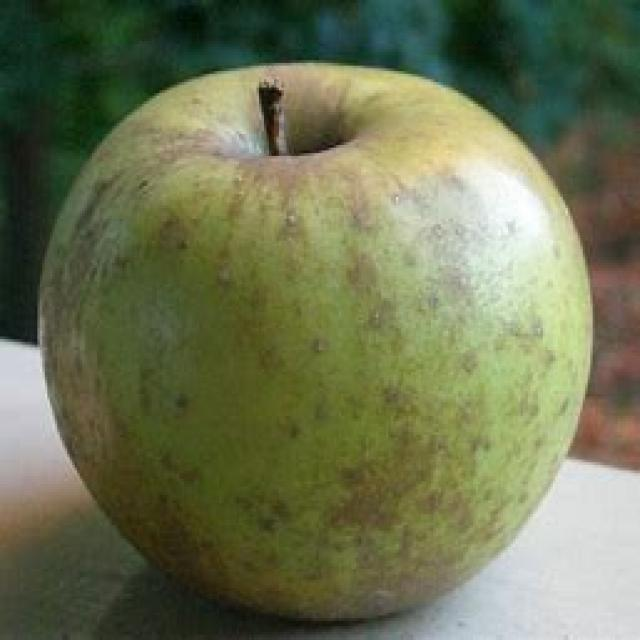Apple: (36, 50, 601, 621)
